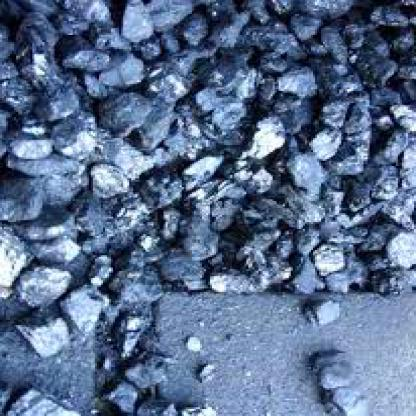Sedimentary_coal: (12, 254, 81, 311), (246, 110, 293, 159), (311, 236, 351, 276)
